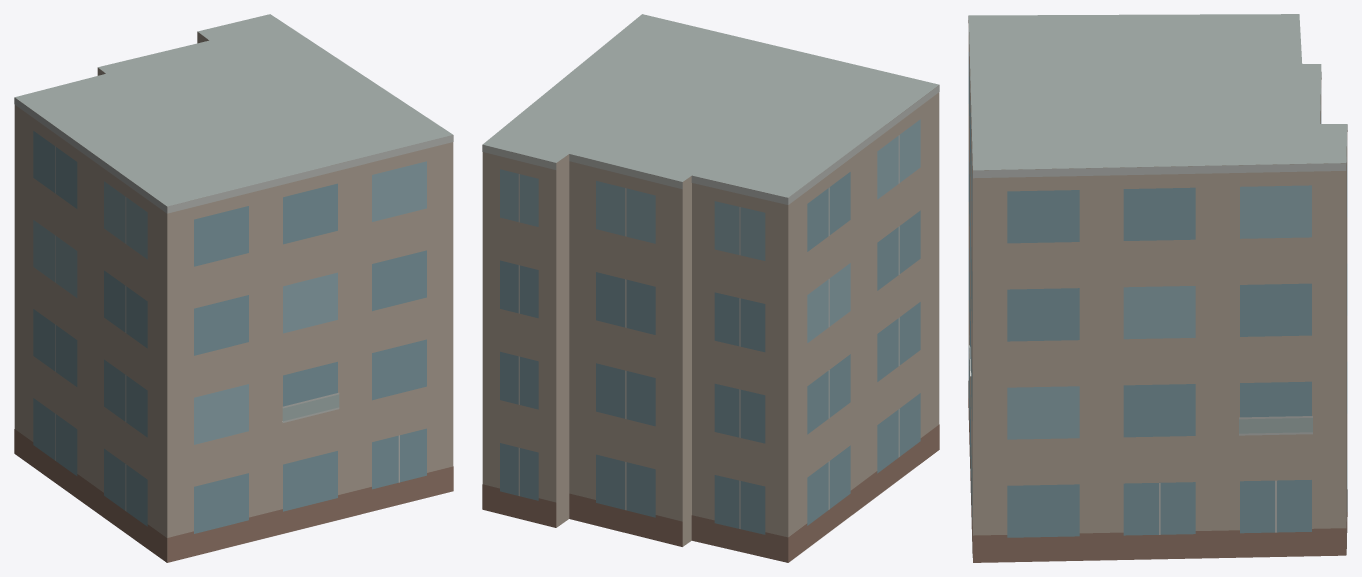
File: survey-upis-32524904.glb
3 renders of one model, left to right at view 1: azimuth 30°, elevation 25°; view 2: azimuth 150°, elevation 25°; view 3: azimuth 270°, elevation 25°, orthographic. The views are drawn at different scales.
Visible parts, largest first — view 1: survey-upis-32524904.tmp; view 2: survey-upis-32524904.tmp; view 3: survey-upis-32524904.tmp.
Part boxes in pixels (bbox=[...]): survey-upis-32524904.tmp: bbox=[14, 14, 453, 562]; survey-upis-32524904.tmp: bbox=[482, 14, 939, 562]; survey-upis-32524904.tmp: bbox=[968, 14, 1347, 562].
Size of the model in its own units: 10.43 by 12.2 by 10.68.
